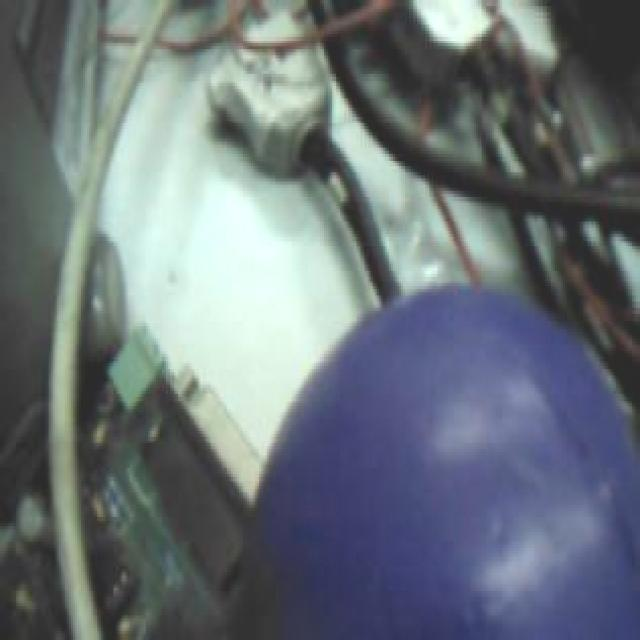BallPurple: (249, 288, 640, 640)
